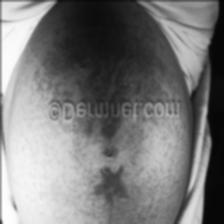Toxin: (98, 150, 128, 194)
